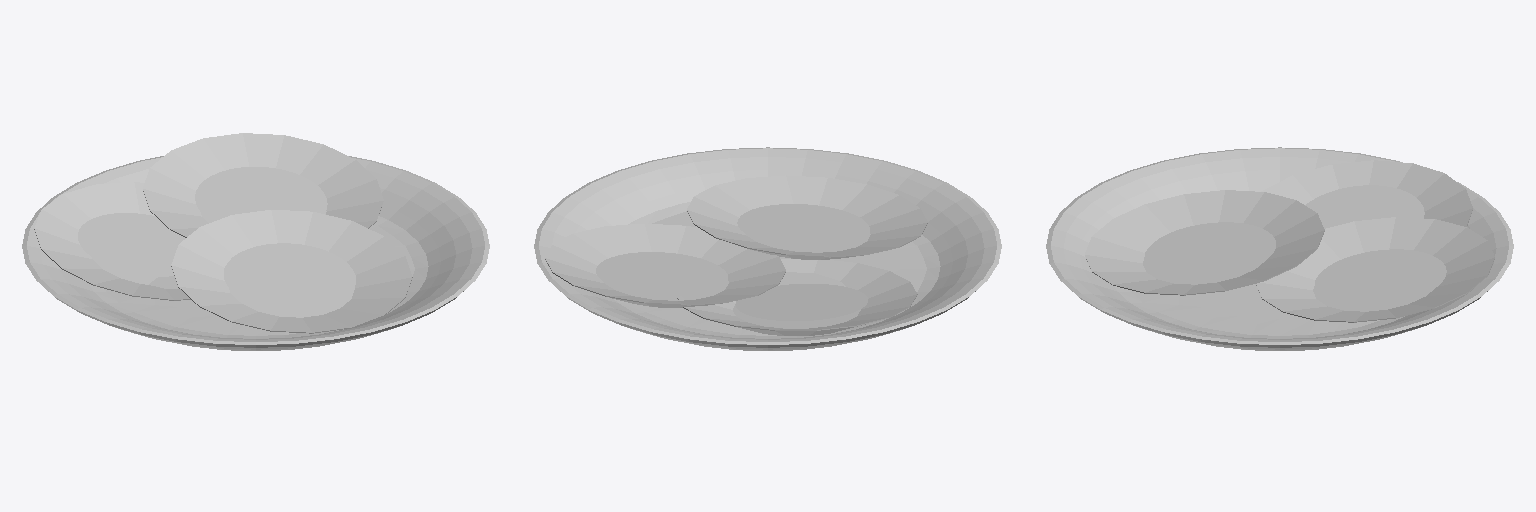
Rendered from KUE APE.obj.
3 renders of one model, left to right at view 1: azimuth 30°, elevation 25°; view 2: azimuth 150°, elevation 25°; view 3: azimuth 270°, elevation 25°, orthographic.
Visible parts, largest first — view 1: Cylinder, Cylinder.003_Cylinder.004, Cylinder.001, Cylinder.005_Cylinder.006, Cylinder.004_Cylinder.005, Cylinder.002, Cylinder.006_Cylinder.007; view 2: Cylinder, Cylinder.003_Cylinder.004, Cylinder.001, Cylinder.005_Cylinder.006, Cylinder.002, Cylinder.004_Cylinder.005, Cylinder.006_Cylinder.007; view 3: Cylinder, Cylinder.003_Cylinder.004, Cylinder.001, Cylinder.005_Cylinder.006, Cylinder.002, Cylinder.004_Cylinder.005, Cylinder.006_Cylinder.007.
Part boxes in pixels (left/top/right/bottom): Cylinder: left=22, top=156, right=489, bottom=350; Cylinder.003_Cylinder.004: left=171, top=210, right=412, bottom=333; Cylinder.001: left=143, top=133, right=383, bottom=237; Cylinder.005_Cylinder.006: left=34, top=182, right=195, bottom=300; Cylinder.004_Cylinder.005: left=224, top=243, right=355, bottom=310; Cylinder.002: left=195, top=167, right=327, bottom=221; Cylinder.006_Cylinder.007: left=78, top=213, right=185, bottom=276; Cylinder: left=534, top=147, right=1001, bottom=350; Cylinder.003_Cylinder.004: left=687, top=175, right=927, bottom=259; Cylinder.001: left=545, top=224, right=785, bottom=307; Cylinder.005_Cylinder.006: left=677, top=259, right=917, bottom=335; Cylinder.002: left=596, top=252, right=727, bottom=296; Cylinder.004_Cylinder.005: left=737, top=204, right=869, bottom=248; Cylinder.006_Cylinder.007: left=735, top=284, right=867, bottom=320; Cylinder: left=1046, top=147, right=1513, bottom=350; Cylinder.003_Cylinder.004: left=1085, top=190, right=1324, bottom=295; Cylinder.001: left=1256, top=217, right=1494, bottom=322; Cylinder.005_Cylinder.006: left=1261, top=160, right=1472, bottom=226; Cylinder.002: left=1315, top=249, right=1446, bottom=306; Cylinder.004_Cylinder.005: left=1144, top=222, right=1275, bottom=279; Cylinder.006_Cylinder.007: left=1305, top=185, right=1424, bottom=228.
Size of the model in its own units: 2.31 by 0.278 by 2.31.